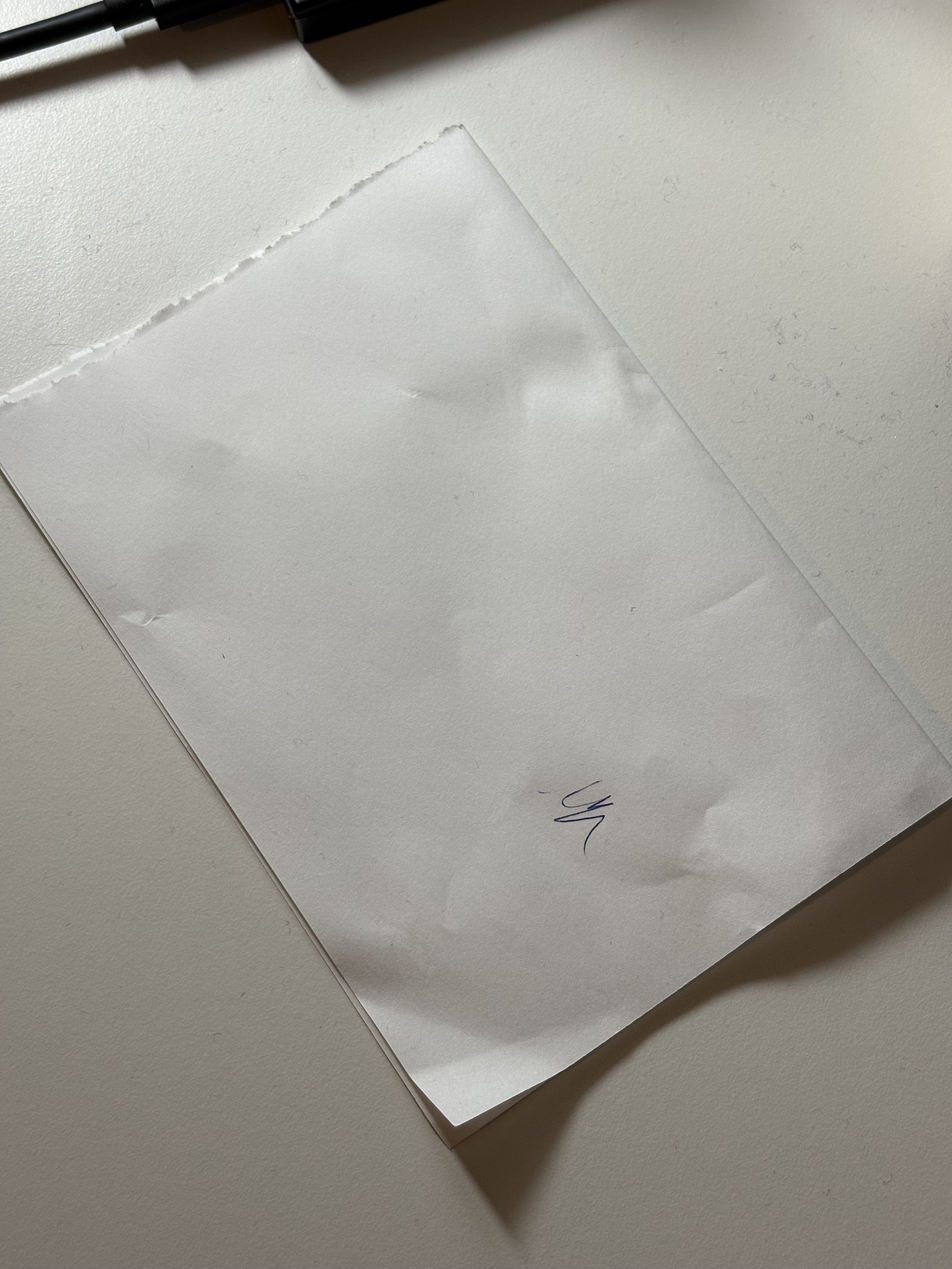paper: (0, 122, 950, 1126)
